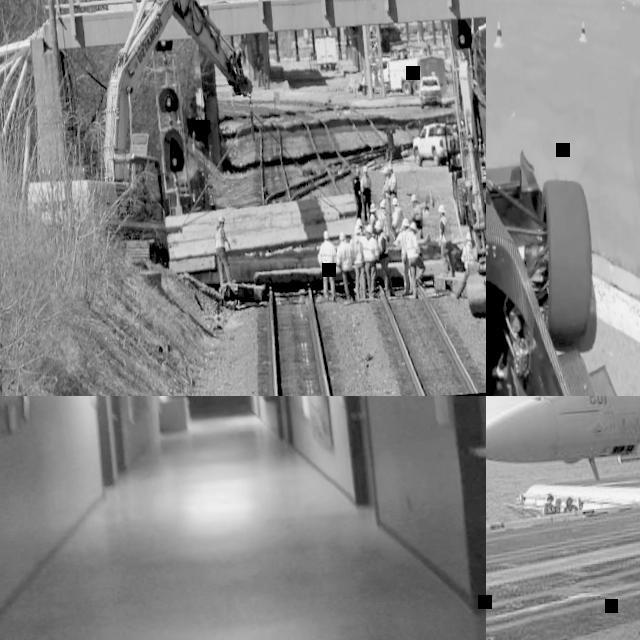helmet: (368, 202, 378, 212), (437, 203, 446, 212), (372, 218, 380, 228), (322, 228, 330, 238), (338, 230, 346, 240), (401, 216, 409, 226), (390, 196, 398, 205), (409, 221, 417, 230), (465, 228, 471, 240), (544, 492, 553, 500), (378, 200, 386, 208), (364, 224, 372, 232), (381, 166, 389, 174), (354, 223, 362, 230), (409, 192, 416, 200), (564, 496, 573, 502), (362, 164, 368, 172), (386, 162, 394, 168), (218, 215, 225, 221), (452, 123, 457, 128), (356, 168, 360, 172)
vest: (334, 239, 356, 269), (358, 232, 378, 260), (315, 240, 336, 266), (393, 228, 410, 259), (404, 229, 421, 257), (350, 233, 364, 263), (459, 240, 474, 268), (438, 214, 452, 242), (391, 204, 404, 232), (378, 208, 390, 237), (212, 226, 225, 250), (358, 173, 372, 194), (376, 229, 388, 253), (380, 174, 390, 197), (387, 172, 397, 192), (412, 202, 422, 220), (368, 212, 376, 223), (452, 130, 458, 141)
